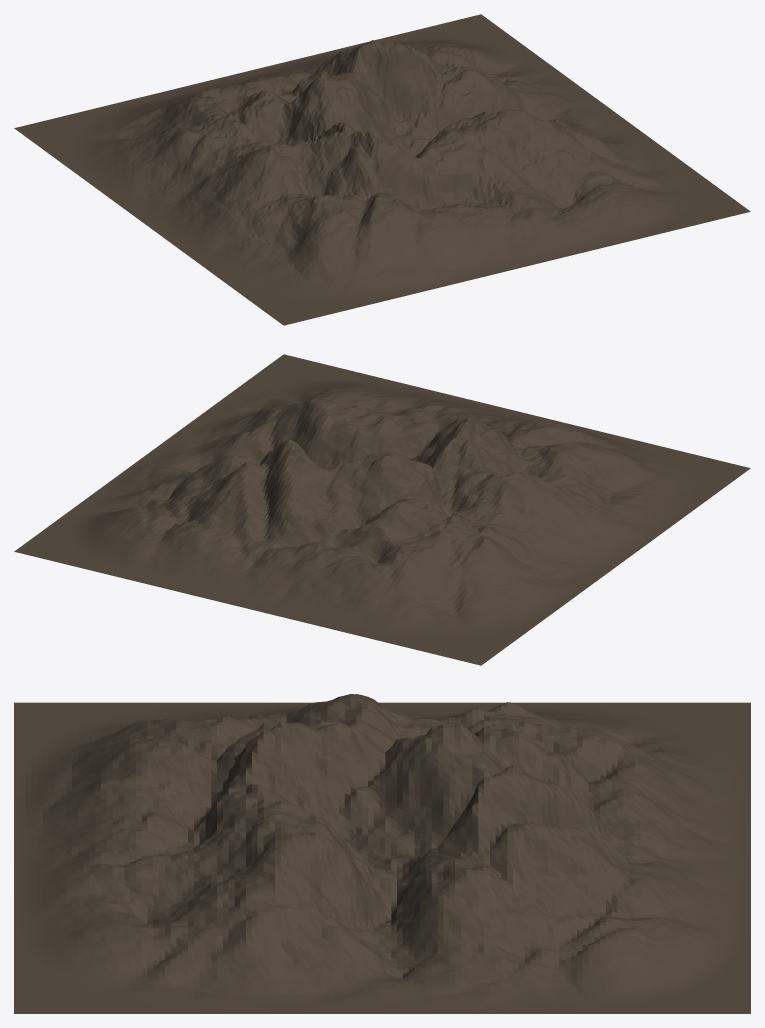
Rendered from Glider Terrain.fbx.
3 views of the same model, one above another, from view 1: azimuth 30°, elevation 25°; view 2: azimuth 150°, elevation 25°; view 3: azimuth 270°, elevation 25° (orthographic). The views are drawn at different scales.
Parts seen in each view (by area): view 1: Landscape.002; view 2: Landscape.002; view 3: Landscape.002.
Part boxes in pixels (bbox=[...]): Landscape.002: bbox=[14, 14, 750, 325]; Landscape.002: bbox=[14, 354, 750, 665]; Landscape.002: bbox=[14, 694, 750, 1013].
Bounding box in the file's own units: 15656 × 2899 × 15656.
